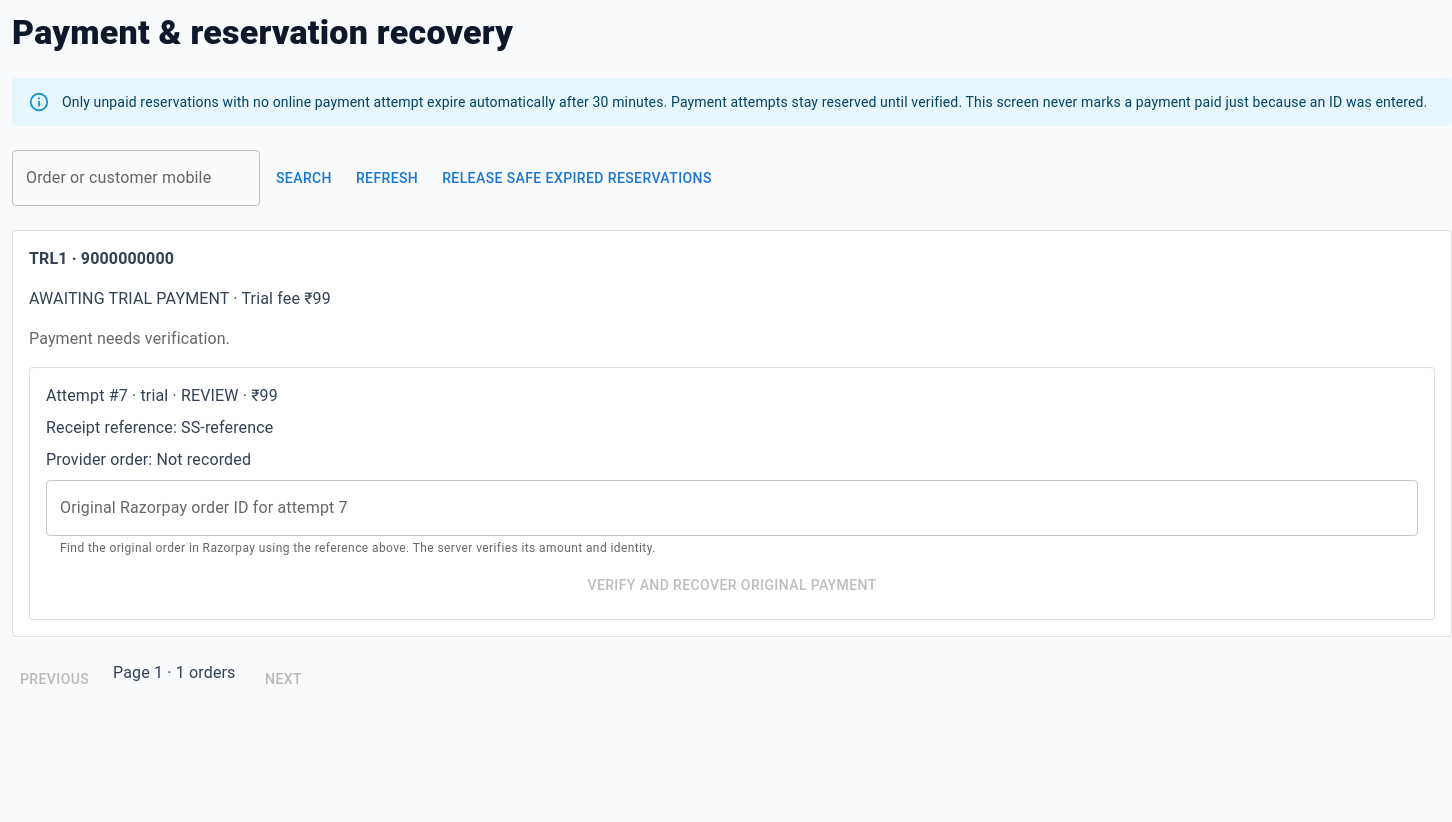
Test case: safe expiration action shows the released count
The width and height of the screenshot is (1452, 822).
expect the text "Receipt reference: SS-reference" is shown: met, box top-left (46, 418), bottom-right (273, 437)
Click the button "Release safe expired reservations" at (577, 178), box top-left (434, 150), bottom-right (720, 206)
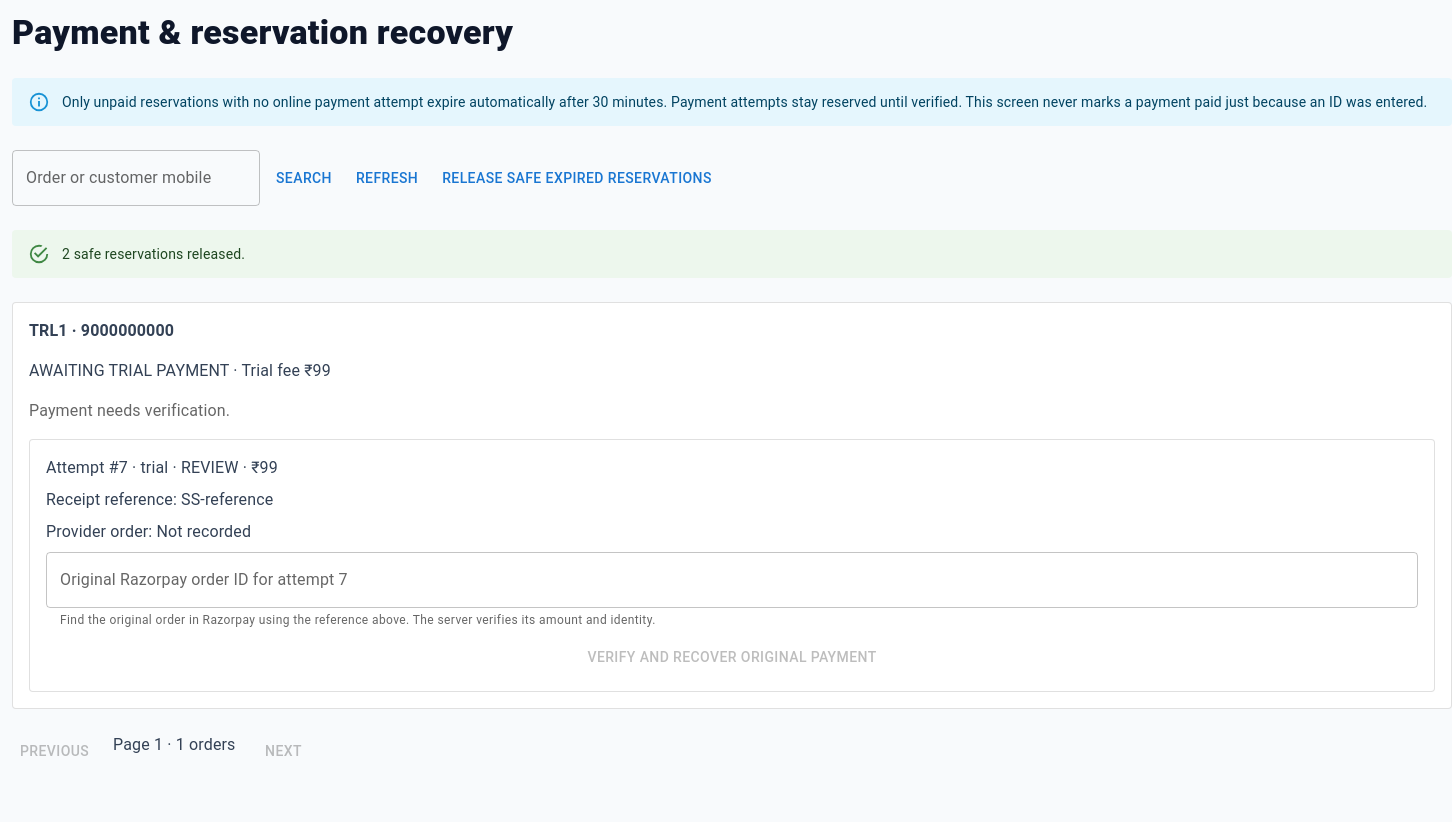
expect the text "2 safe reservations released." is shown: met, box top-left (62, 246), bottom-right (245, 262)
